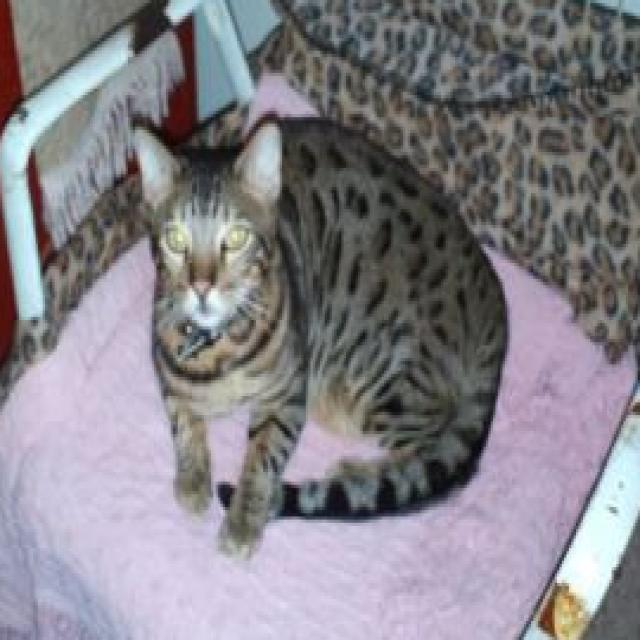Bengal: (124, 109, 518, 566)
